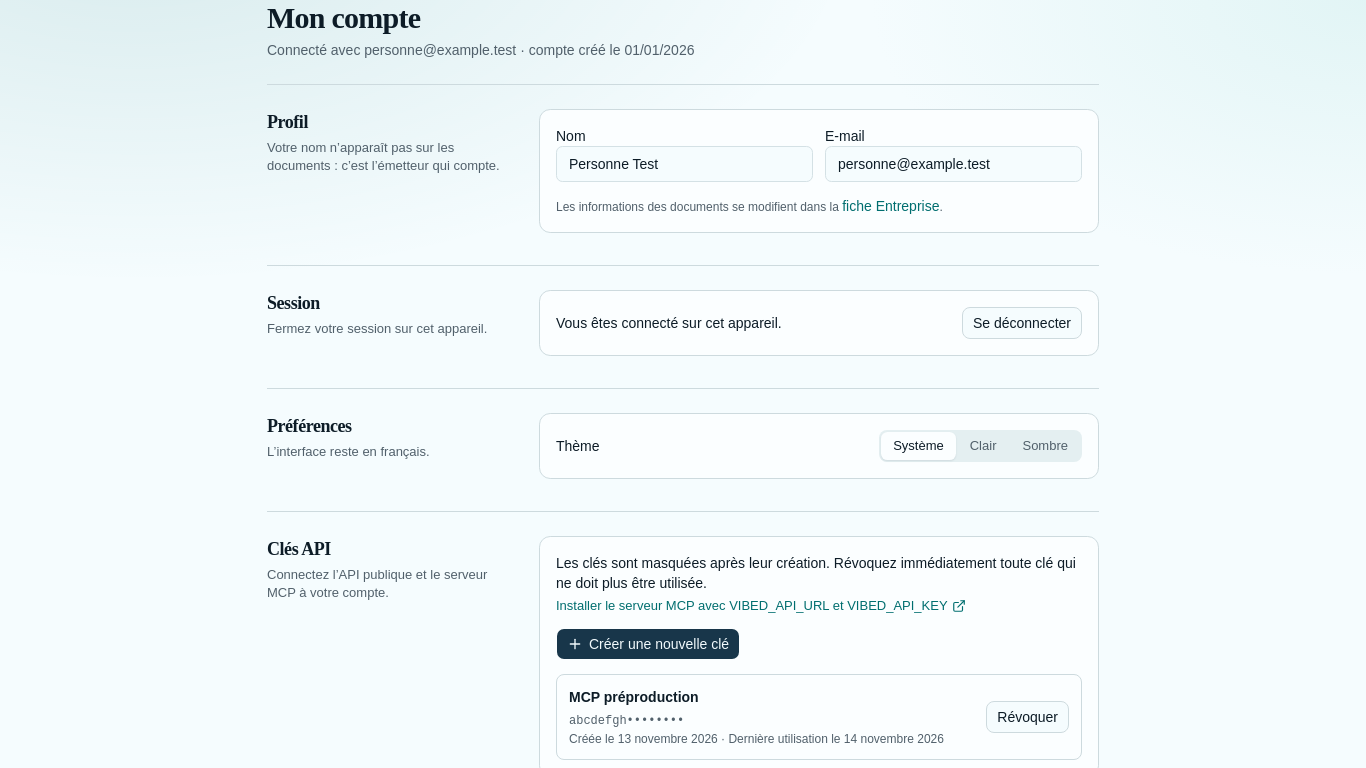
Scenario: Account API keys › shows a newly created secret once and never adds it to the key list
Expected: the text "MCP préproduction" is shown, [569, 687, 699, 707]
Click the button "Créer une nouvelle clé". click: (648, 644)
box: [556, 628, 740, 660]
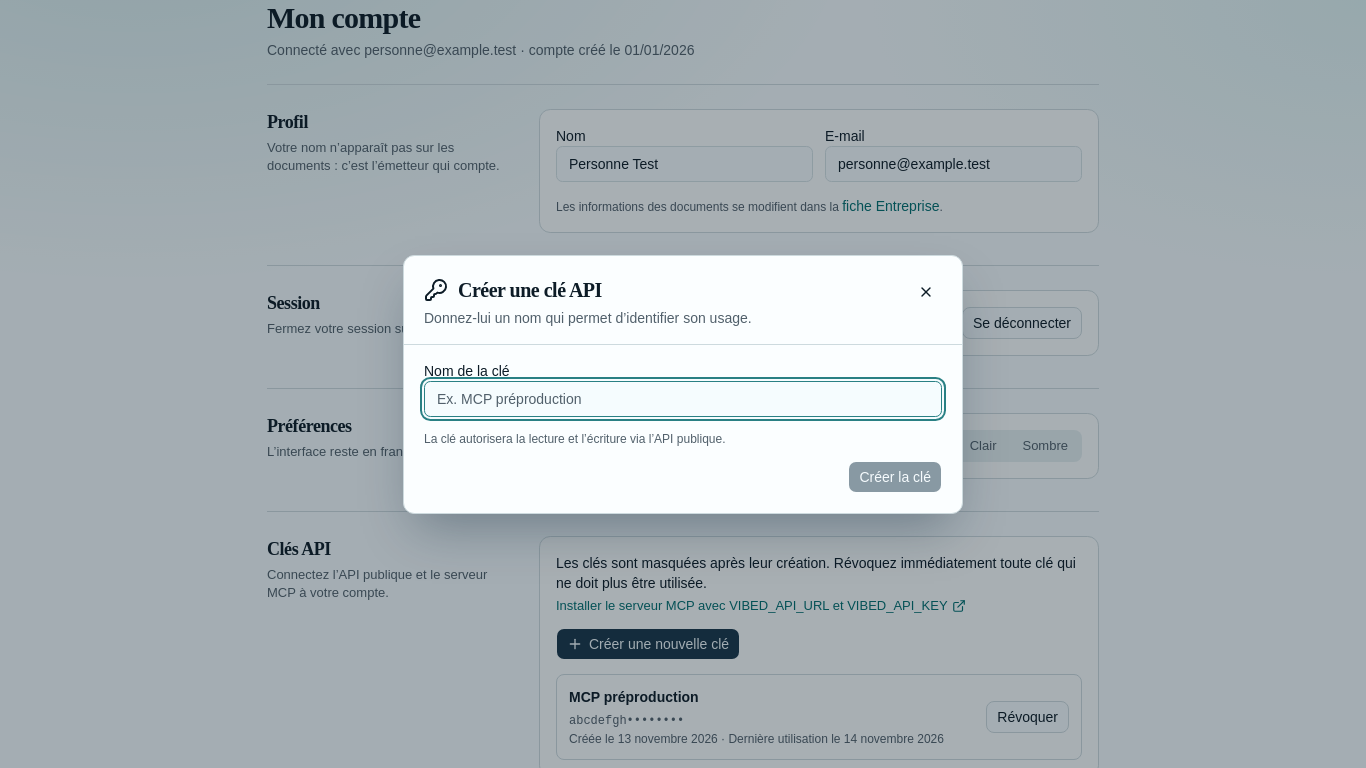
Type "MCP local" into the field labelled "Nom de la clé". click: (683, 398)
box: [424, 380, 942, 416]
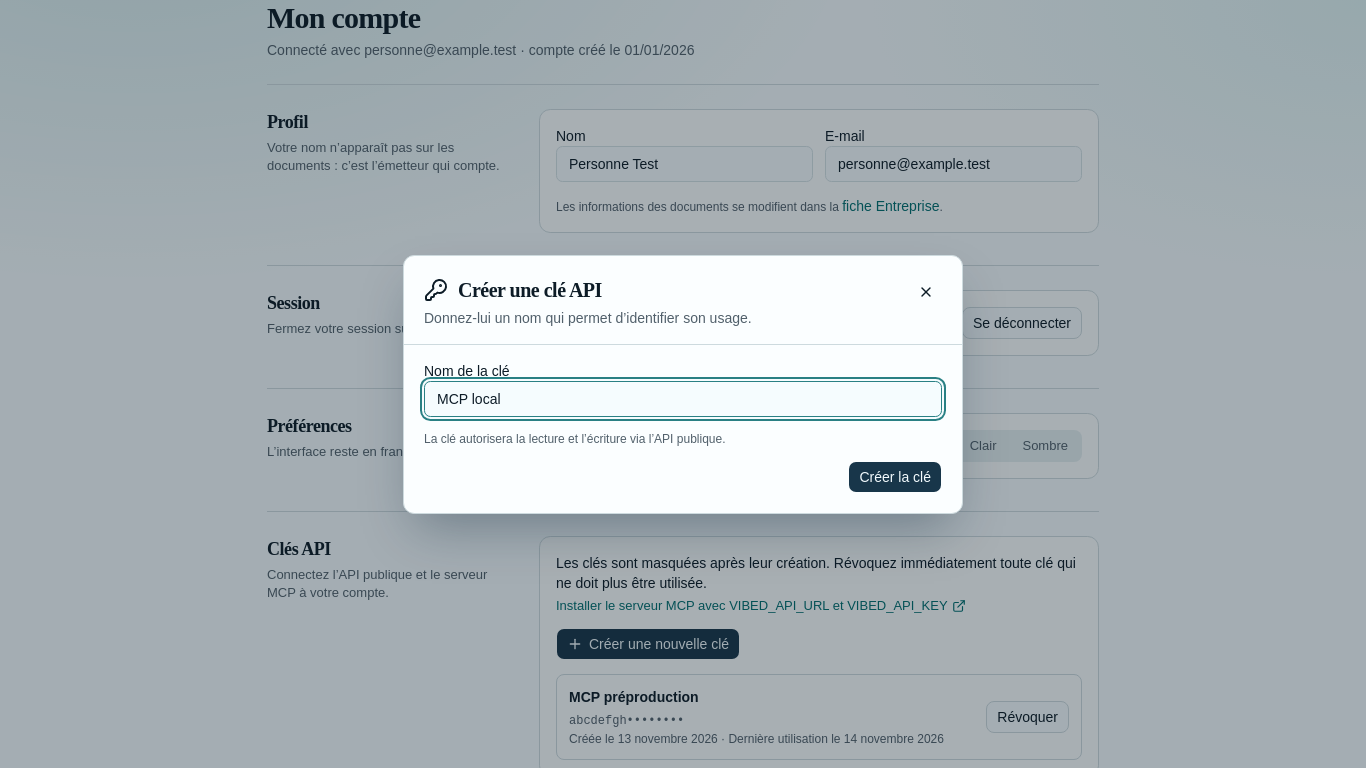
Click the button "Créer la clé". click: (895, 476)
box: [848, 460, 942, 492]
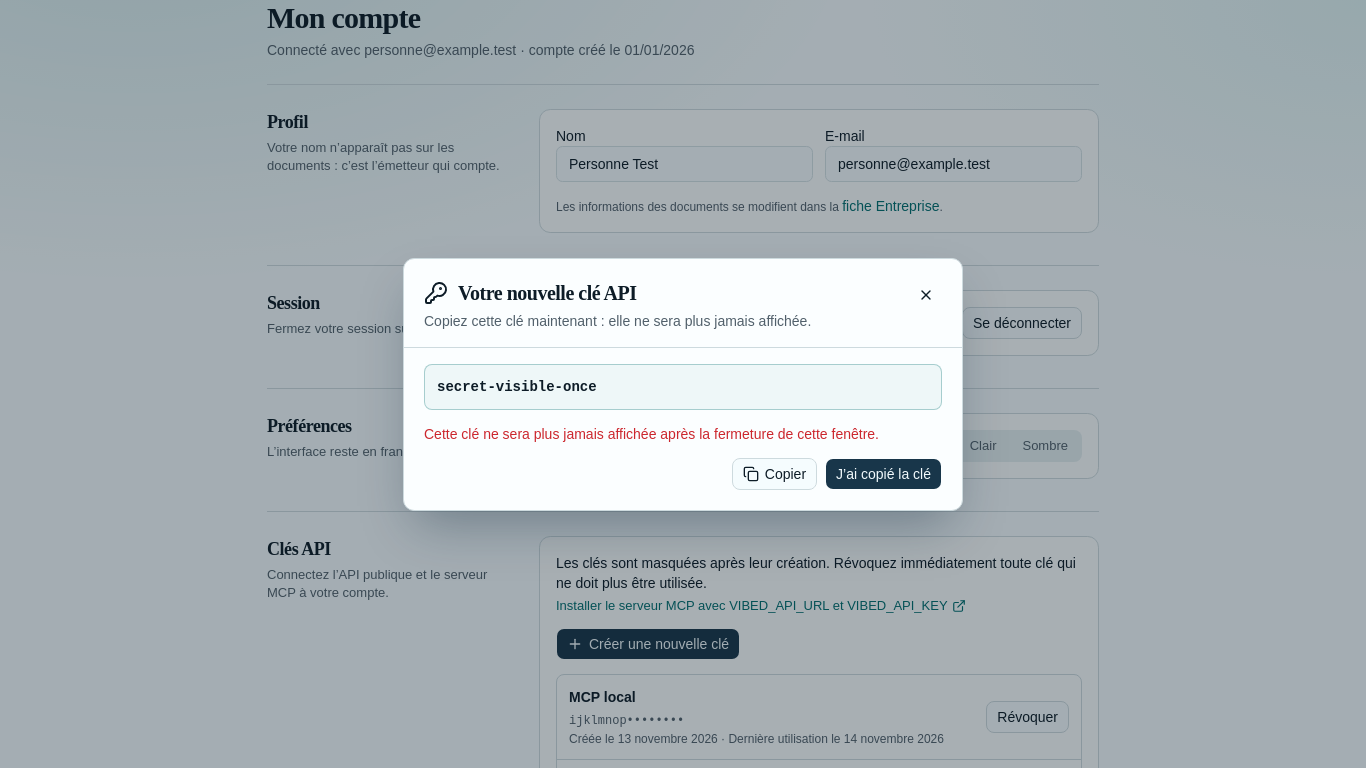
Expected: the text "secret-visible-once" is shown, [437, 378, 597, 394]
Expected: the text "MCP local" is shown once, [569, 687, 636, 707]
Click the button "J’ai copié la clé". click: (884, 474)
box: [825, 458, 942, 490]
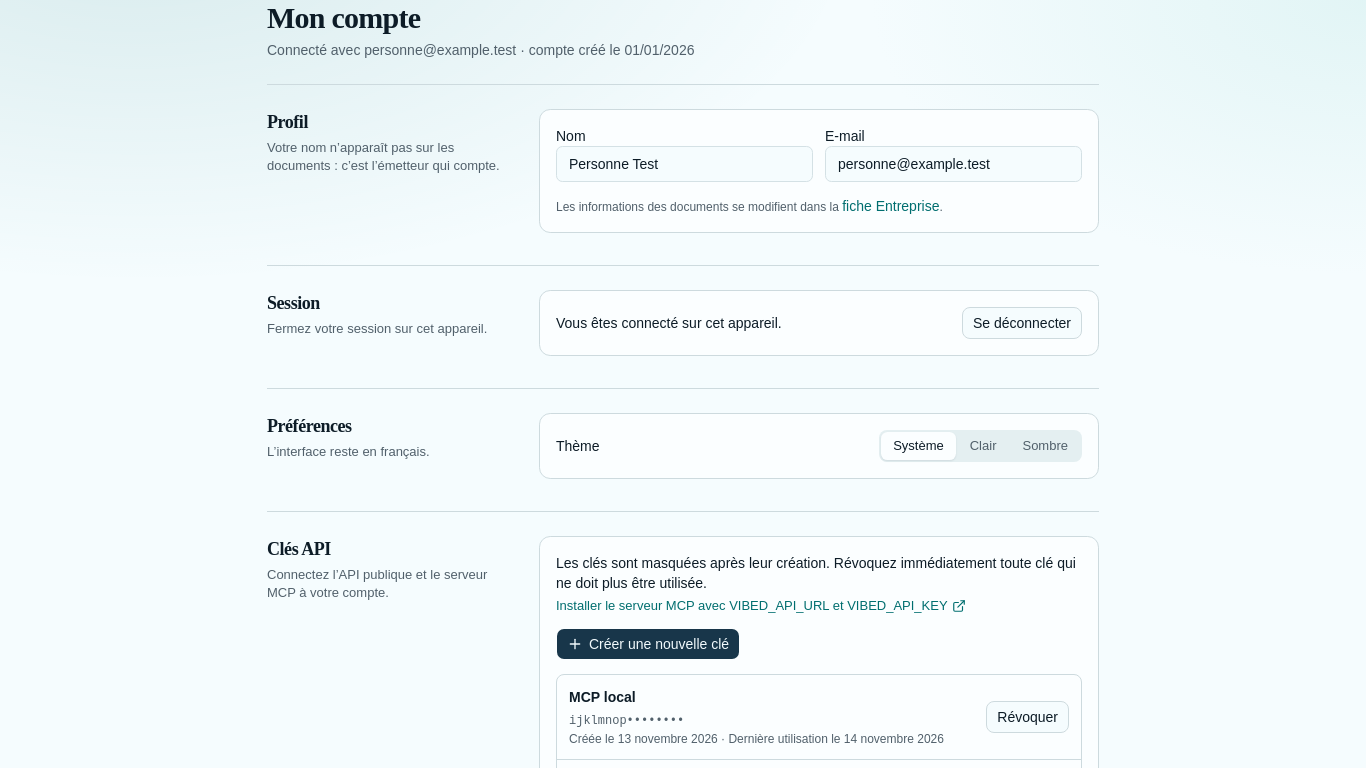
Expected: the text "secret-visible-once" is gone
